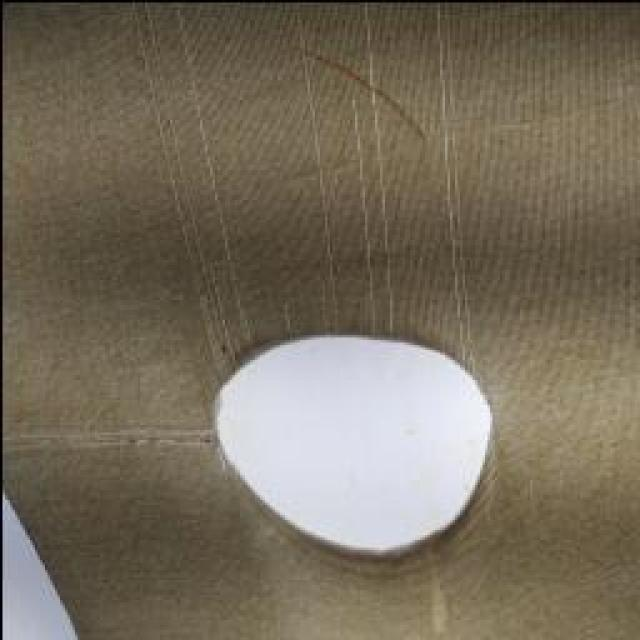seam: (200, 322, 502, 568)
